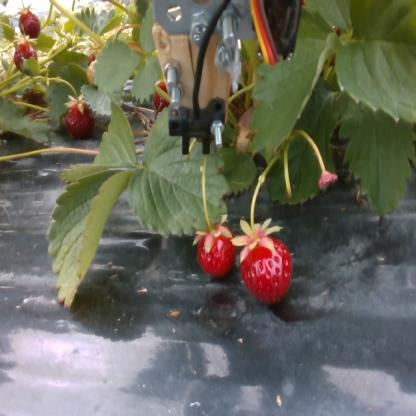ripe: (238, 232, 296, 308), (198, 224, 238, 279), (64, 99, 90, 135), (21, 9, 40, 41), (16, 45, 36, 74), (156, 79, 172, 110)
